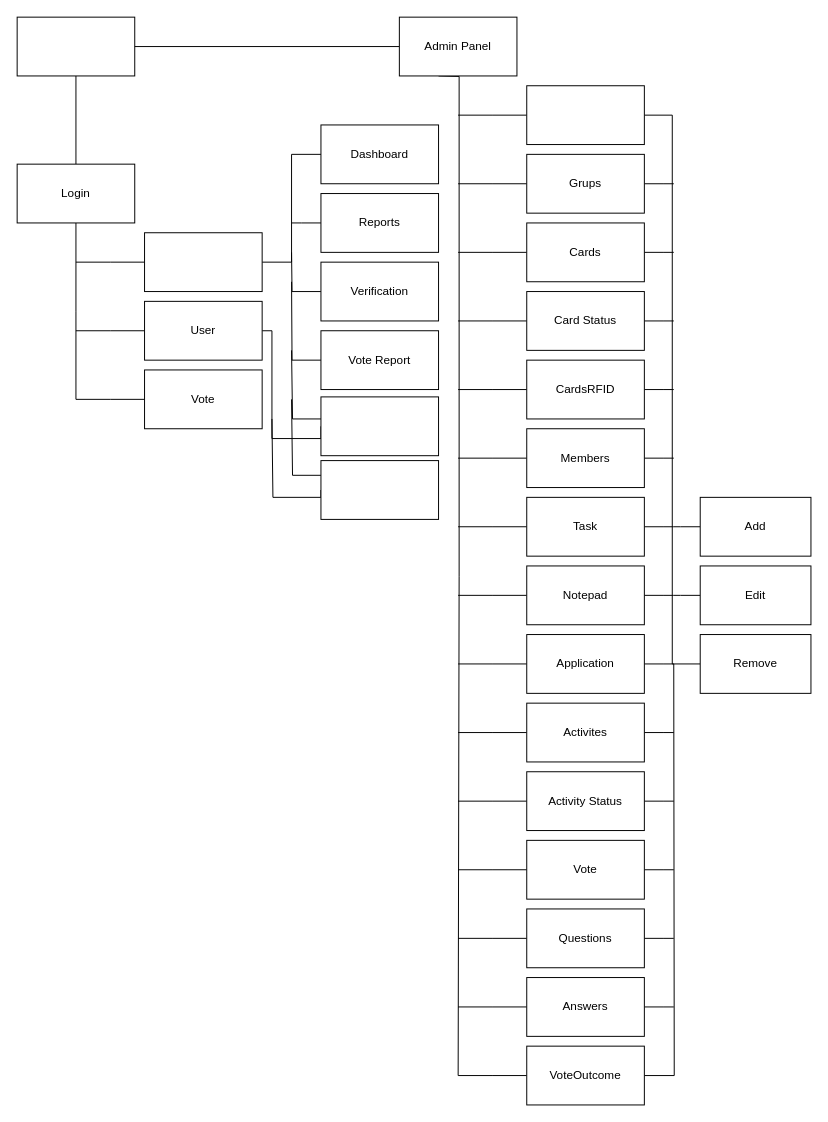
The diagram is 828 pixels wide and 1122 high, and some of its shapes have lost their labels. Here are the shapes that lost their labels. From the top down, the centre of each, then its label:
pixel 75 46: Main
pixel 585 115: Users
pixel 203 262: Admin
pixel 379 426: Meetings
pixel 379 489: Activities
